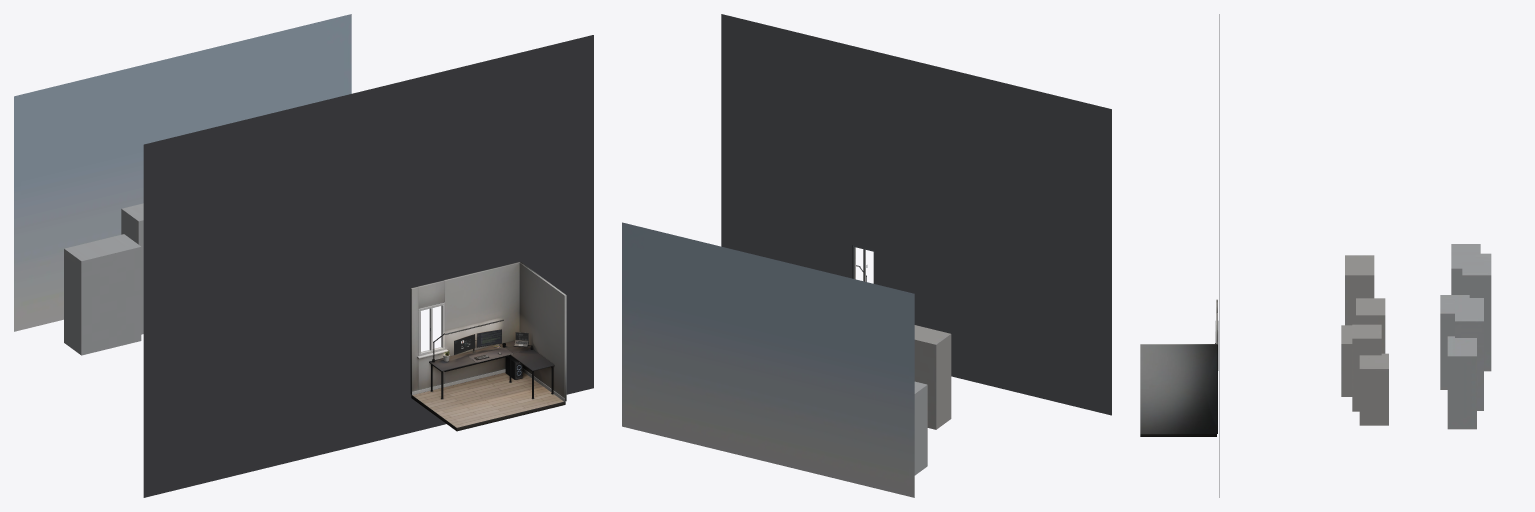
The model's file is stanza-piccola.glb.
The picture shows the model from 3 angles, left to right: view 1: azimuth 30°, elevation 25°; view 2: azimuth 150°, elevation 25°; view 3: azimuth 270°, elevation 25°; orthographic projection. The views are drawn at different scales.
Parts seen in each view (by area): view 1: buio, fuori, stanza, mobili, oggetti; view 2: buio, fuori; view 3: fuori, stanza, buio.
Part boxes in pixels (<box>): buio: <box>143,35,593,497</box>; fuori: <box>14,14,351,355</box>; stanza: <box>410,262,566,431</box>; mobili: <box>429,340,554,399</box>; oggetti: <box>432,319,532,362</box>; buio: <box>721,14,1111,415</box>; fuori: <box>622,222,951,497</box>; fuori: <box>1341,244,1491,429</box>; stanza: <box>1140,299,1218,436</box>; buio: <box>1219,14,1219,497</box>.
Size of the model in its own units: 12 by 9 by 10.4.
9 materials, 7 textured.
